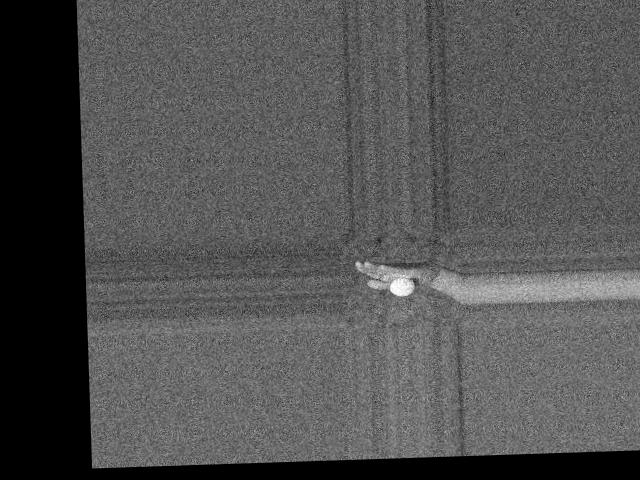egg: (390, 276, 415, 296)
